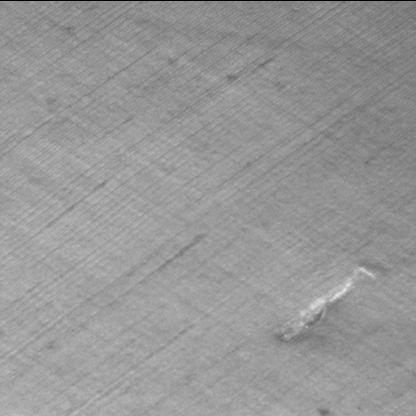hole: (270, 262, 386, 344)
